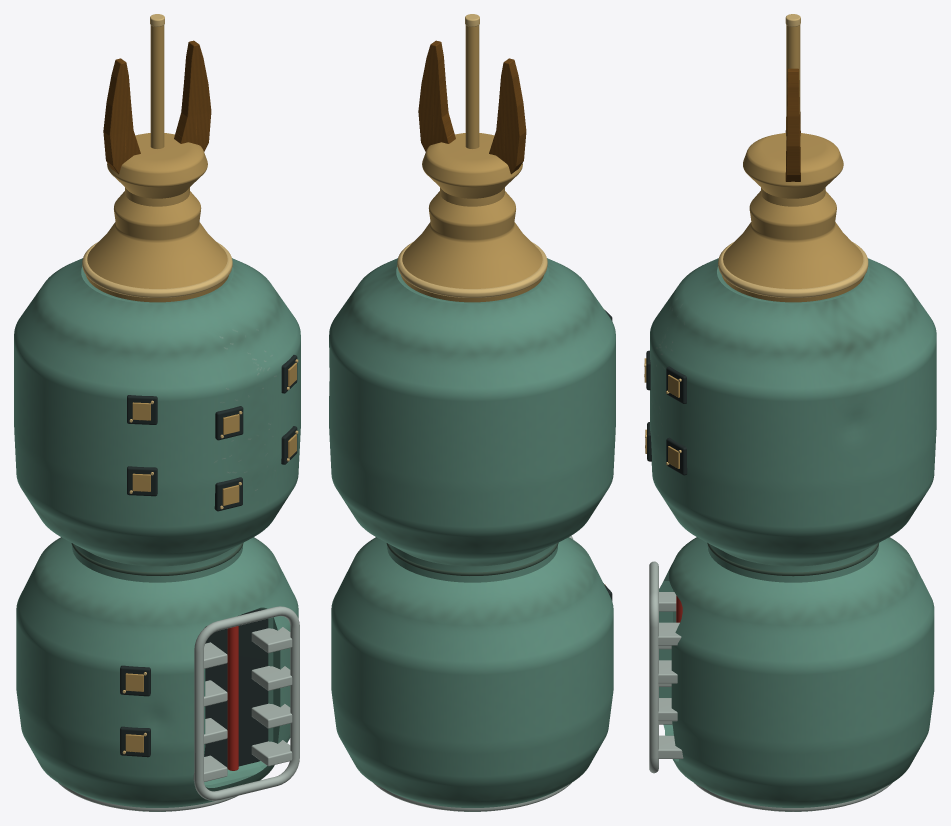
3 renders of one model, left to right at view 1: azimuth 30°, elevation 25°; view 2: azimuth 150°, elevation 25°; view 3: azimuth 270°, elevation 25°, orthographic.
Parts seen in each view (by area): view 1: RI04 upper rounded pod, RI04 lower rounded pod, RI04 crown stepped brass foundation, RI04 recessed service backing, RI04 curved service retaining frame, RI04 crown flared fork cradle, RI04 refined crown arm left, RI04 refined crown arm right, RI04 solid structural waist, RI04 crown central conductor, RI04 vertical red equipment core, RI04 crown rubbed mounting lip (+13 smaller); view 2: RI04 upper rounded pod, RI04 lower rounded pod, RI04 crown stepped brass foundation, RI04 crown flared fork cradle, RI04 refined crown arm left, RI04 refined crown arm right, RI04 solid structural waist, RI04 crown central conductor, RI04 crown rubbed mounting lip, RI04 ground contact rim, RI04 waist contaminated seam, RI04 crown solid fork socket; view 3: RI04 upper rounded pod, RI04 lower rounded pod, RI04 crown stepped brass foundation, RI04 crown flared fork cradle, RI04 solid structural waist, RI04 curved service retaining frame, RI04 crown rubbed mounting lip, RI04 refined crown arm right, RI04 crown central conductor, RI04 ground contact rim, RI04 waist contaminated seam, RI04 crown solid fork socket.
Part boxes in pixels (left/top/right/bottom): RI04 upper rounded pod: left=14, top=258, right=300, bottom=566; RI04 lower rounded pod: left=16, top=537, right=298, bottom=811; RI04 crown stepped brass foundation: left=86, top=191, right=228, bottom=302; RI04 recessed service backing: left=204, top=609, right=268, bottom=768; RI04 curved service retaining frame: left=194, top=606, right=299, bottom=800; RI04 crown flared fork cradle: left=107, top=133, right=207, bottom=198; RI04 refined crown arm left: left=103, top=58, right=140, bottom=174; RI04 refined crown arm right: left=174, top=40, right=211, bottom=151; RI04 solid structural waist: left=72, top=544, right=242, bottom=582; RI04 crown central conductor: left=150, top=25, right=164, bottom=148; RI04 vertical red equipment core: left=227, top=626, right=238, bottom=770; RI04 crown rubbed mounting lip: left=82, top=242, right=232, bottom=297; RI04 upper rounded pod: left=329, top=258, right=615, bottom=566; RI04 lower rounded pod: left=331, top=537, right=613, bottom=811; RI04 crown stepped brass foundation: left=401, top=191, right=543, bottom=302; RI04 crown flared fork cradle: left=422, top=133, right=522, bottom=198; RI04 refined crown arm left: left=489, top=58, right=526, bottom=174; RI04 refined crown arm right: left=418, top=40, right=455, bottom=151; RI04 solid structural waist: left=387, top=544, right=557, bottom=582; RI04 crown central conductor: left=465, top=25, right=479, bottom=148; RI04 crown rubbed mounting lip: left=397, top=242, right=547, bottom=297; RI04 ground contact rim: left=373, top=783, right=571, bottom=811; RI04 waist contaminated seam: left=386, top=543, right=558, bottom=575; RI04 crown solid fork socket: left=440, top=187, right=504, bottom=206; RI04 upper rounded pod: left=650, top=258, right=936, bottom=566; RI04 lower rounded pod: left=659, top=537, right=934, bottom=811; RI04 crown stepped brass foundation: left=722, top=191, right=864, bottom=302; RI04 crown flared fork cradle: left=743, top=133, right=843, bottom=198; RI04 solid structural waist: left=707, top=544, right=878, bottom=582; RI04 curved service retaining frame: left=649, top=561, right=658, bottom=773; RI04 crown rubbed mounting lip: left=718, top=242, right=868, bottom=297; RI04 refined crown arm right: left=785, top=68, right=800, bottom=181; RI04 crown central conductor: left=786, top=25, right=800, bottom=139; RI04 ground contact rim: left=694, top=783, right=891, bottom=811; RI04 waist contaminated seam: left=707, top=542, right=878, bottom=576; RI04 crown solid fork socket: left=761, top=187, right=825, bottom=206.
Size of the model in its own units: 1.24 by 3.61 by 1.26.
Materials: 9 (3 with a texture image).
